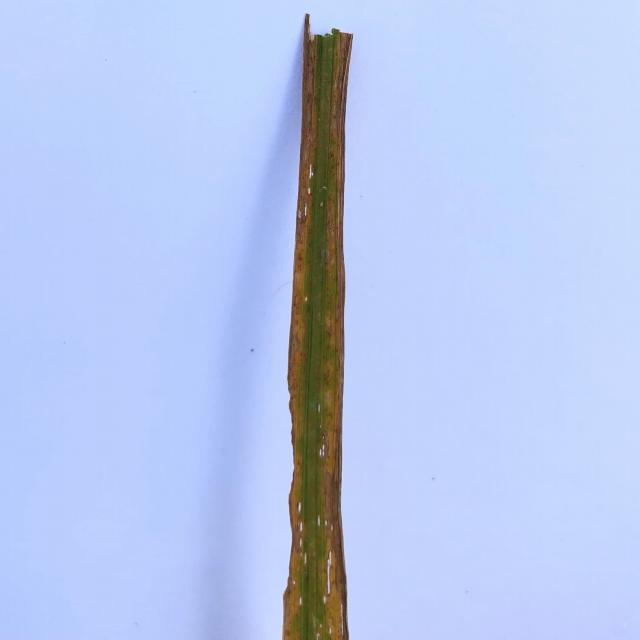tungro: (318, 30, 352, 640), (283, 15, 315, 640)
